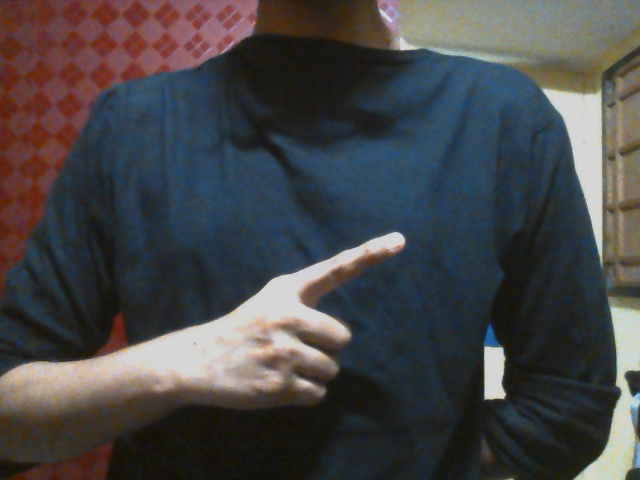I: (214, 232, 408, 409)
